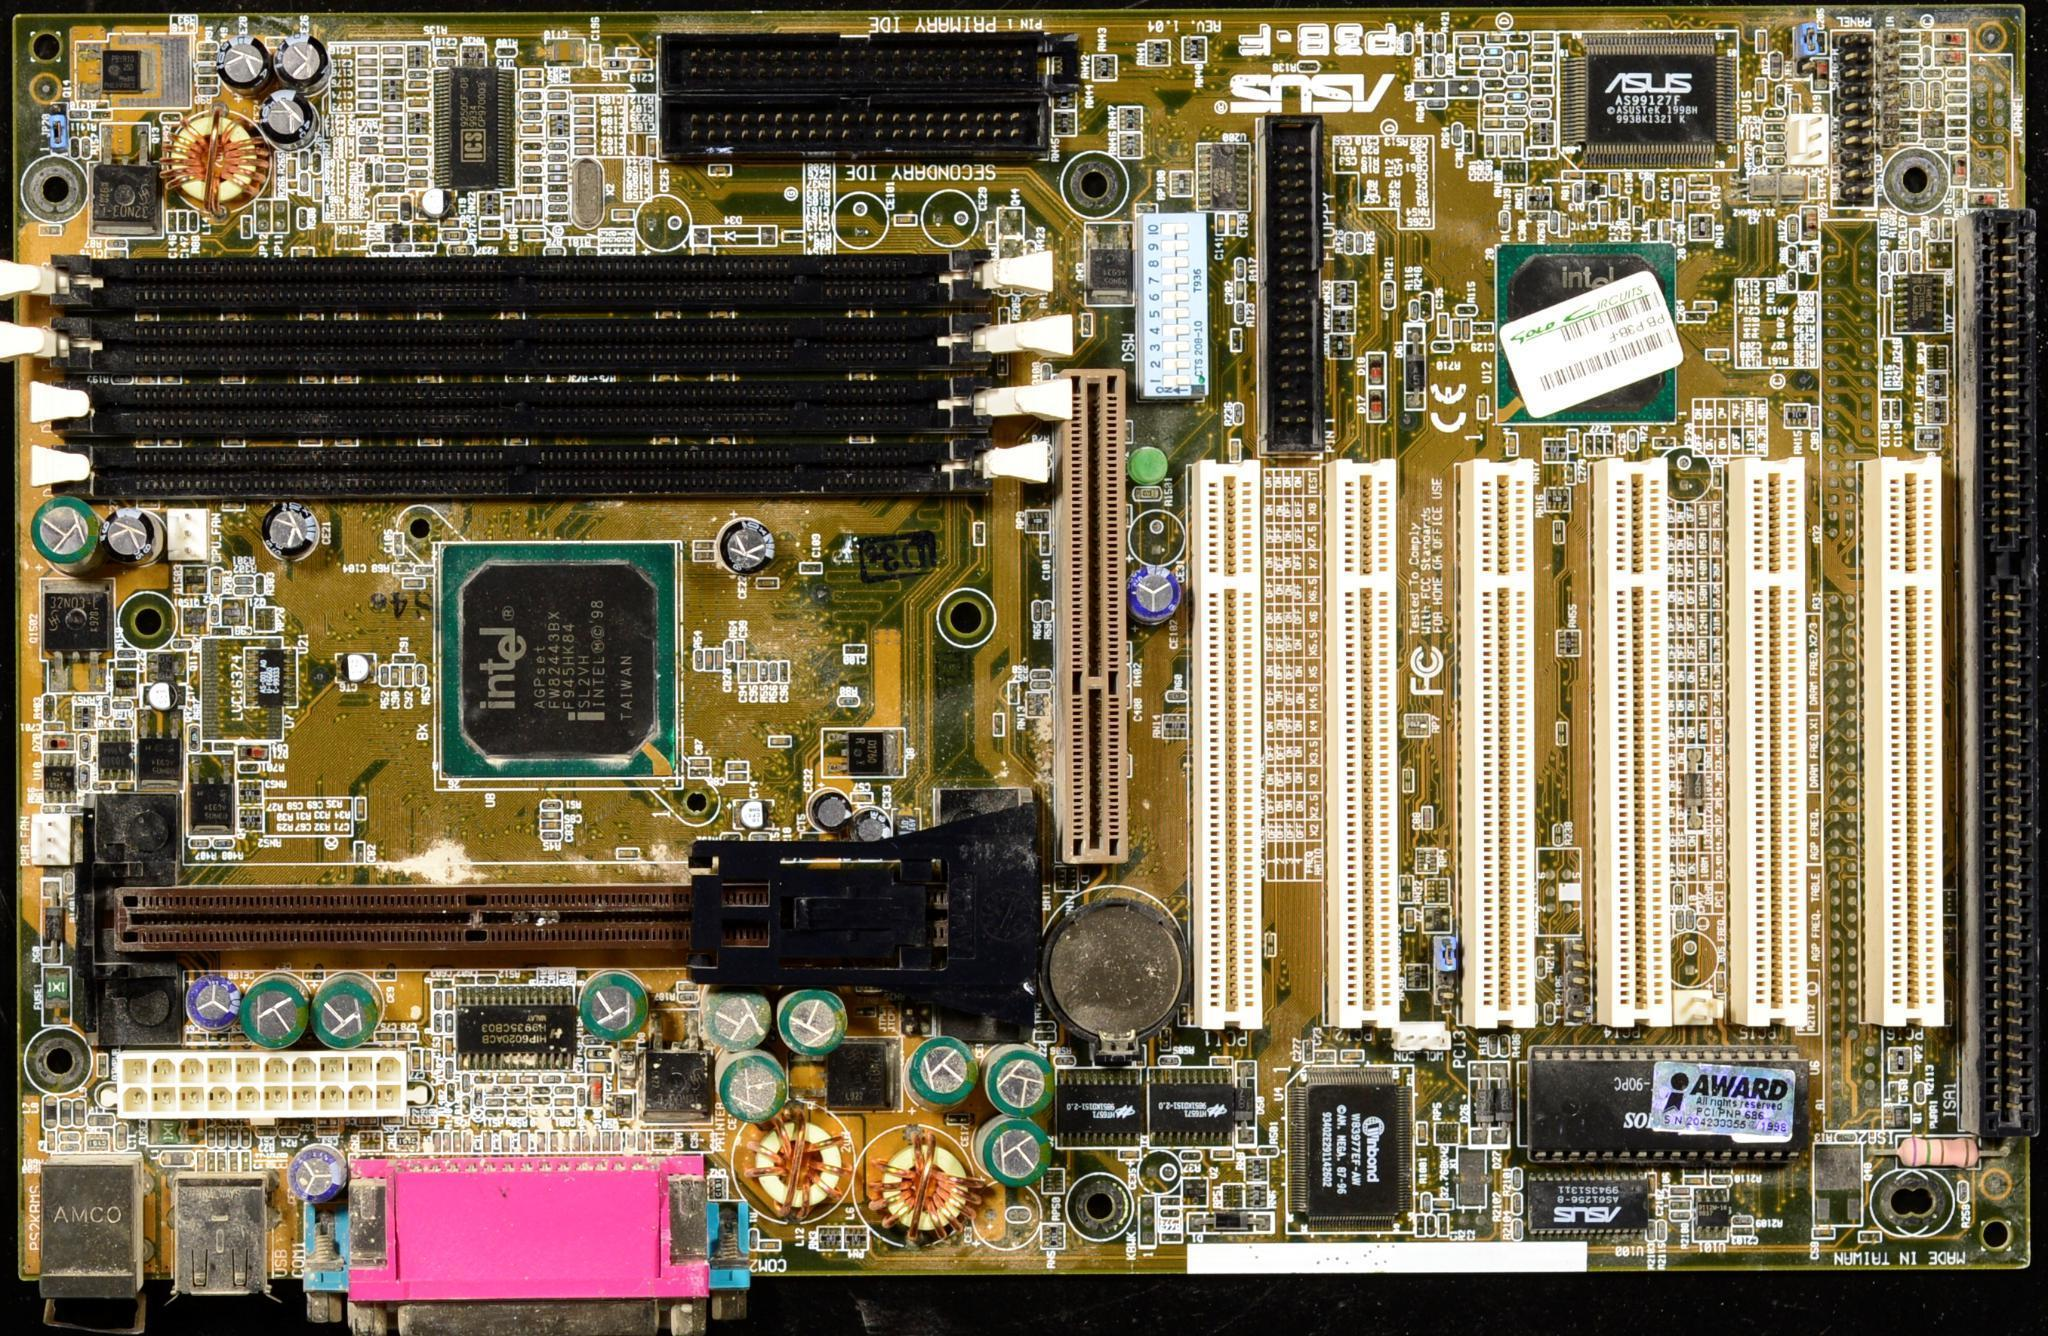Capacitor: (546, 39, 584, 65), (357, 76, 380, 89), (380, 44, 404, 56), (1511, 132, 1522, 156), (356, 44, 378, 56), (1755, 30, 1768, 53), (356, 57, 379, 68), (692, 539, 719, 549), (1344, 1049, 1366, 1061), (1813, 1226, 1836, 1238), (381, 57, 403, 68), (356, 66, 378, 78), (1406, 906, 1416, 931), (356, 89, 379, 100), (406, 575, 423, 589), (1424, 806, 1434, 828), (572, 105, 594, 115), (1668, 1185, 1690, 1196), (382, 146, 404, 156), (1690, 174, 1712, 185), (377, 209, 400, 219), (590, 44, 600, 66), (748, 659, 759, 681), (738, 660, 748, 682), (382, 67, 404, 78), (1755, 78, 1766, 99), (1670, 1208, 1691, 1218), (758, 1242, 779, 1253), (574, 126, 595, 136), (613, 209, 634, 219), (1227, 213, 1237, 235), (1217, 213, 1227, 234), (1533, 42, 1554, 52), (1039, 533, 1048, 557), (727, 760, 747, 770), (382, 103, 402, 113), (1485, 134, 1495, 154), (375, 163, 385, 182), (1674, 179, 1684, 198), (439, 218, 459, 228), (1808, 408, 1818, 427), (521, 80, 543, 89), (445, 988, 454, 1010), (356, 101, 378, 111), (1212, 1148, 1234, 1157), (382, 136, 404, 145), (1498, 133, 1508, 155), (649, 138, 658, 159), (727, 772, 748, 781), (548, 92, 569, 102), (408, 99, 429, 108), (411, 1050, 421, 1068), (421, 1050, 431, 1067), (384, 164, 405, 173), (1610, 175, 1621, 193), (377, 195, 399, 204), (524, 198, 533, 219), (1487, 35, 1508, 43), (392, 532, 402, 552), (695, 551, 716, 560), (628, 60, 650, 69), (1765, 145, 1788, 152), (691, 758, 711, 768), (852, 792, 871, 802), (543, 819, 563, 829), (383, 125, 403, 134), (574, 148, 594, 157), (409, 157, 429, 166), (287, 160, 296, 179), (1563, 170, 1583, 179), (385, 173, 404, 182), (524, 185, 543, 194), (513, 199, 523, 218), (1662, 222, 1671, 242), (481, 229, 500, 237), (391, 665, 400, 684), (1532, 66, 1551, 75), (522, 70, 542, 79), (547, 164, 569, 171), (404, 665, 412, 686), (522, 102, 541, 110), (1485, 120, 1503, 129), (710, 165, 729, 174), (1692, 191, 1710, 200), (1674, 201, 1682, 220), (547, 102, 567, 109), (1484, 108, 1504, 115), (1433, 1198, 1454, 1206), (1560, 214, 1568, 235), (524, 230, 545, 238), (736, 640, 744, 661), (715, 648, 723, 668), (574, 97, 594, 104), (383, 115, 403, 123), (574, 116, 594, 124), (523, 126, 542, 133), (358, 146, 378, 154), (536, 199, 543, 218), (542, 812, 560, 819), (408, 80, 426, 88), (1419, 1122, 1427, 1141), (410, 136, 429, 144), (574, 136, 593, 144), (408, 180, 426, 188), (315, 180, 323, 199), (504, 205, 512, 223), (1236, 281, 1244, 299), (1519, 51, 1526, 73), (706, 651, 713, 668), (359, 798, 366, 820), (1534, 33, 1555, 39), (755, 581, 776, 586), (1210, 1058, 1230, 1064), (1682, 1176, 1702, 1182), (548, 175, 567, 181), (1601, 202, 1608, 221), (694, 247, 713, 253), (106, 249, 125, 256), (771, 737, 791, 744), (522, 154, 540, 160), (1458, 37, 1477, 44), (376, 1032, 393, 1038), (398, 1033, 415, 1039)
Connector: (309, 1155, 750, 1334), (1972, 214, 2038, 1130), (58, 316, 992, 378), (56, 258, 989, 312), (57, 387, 980, 439), (57, 446, 991, 493), (113, 888, 770, 946), (1472, 468, 1540, 1011), (1742, 464, 1808, 1021), (1875, 457, 1937, 1027), (1199, 464, 1261, 1027), (1610, 457, 1671, 1021), (1062, 364, 1128, 858), (1335, 458, 1391, 1021), (652, 35, 1076, 95), (661, 99, 1051, 156), (118, 1050, 403, 1118), (38, 1154, 146, 1332), (176, 1175, 270, 1321)
IC: (438, 541, 682, 777), (1496, 240, 1684, 430), (1525, 1046, 1809, 1167), (1557, 33, 1737, 169), (1294, 1067, 1413, 1229), (455, 985, 577, 1070), (434, 67, 515, 187), (1528, 1168, 1649, 1237), (1054, 1070, 1148, 1146), (1147, 1068, 1233, 1147), (242, 645, 298, 709), (1198, 143, 1250, 211), (1894, 274, 1948, 335), (1693, 1187, 1729, 1237), (98, 728, 132, 779), (381, 223, 411, 243)
Resistor: (1871, 1138, 2009, 1166), (44, 753, 74, 802), (212, 569, 225, 594), (451, 245, 477, 257), (1910, 250, 1922, 272), (1056, 1053, 1074, 1066), (442, 231, 469, 241), (1299, 61, 1318, 73), (769, 662, 780, 680), (189, 725, 199, 751), (1531, 109, 1552, 120), (359, 136, 380, 146), (299, 172, 309, 192), (1897, 251, 1907, 272), (1735, 1214, 1754, 1224), (81, 137, 91, 157), (1403, 34, 1413, 53), (497, 47, 517, 57), (416, 666, 427, 685), (1512, 1168, 1521, 1189), (1881, 252, 1890, 274), (1880, 273, 1888, 295), (1236, 301, 1245, 324), (82, 735, 91, 757), (542, 800, 560, 810), (39, 804, 60, 814), (1916, 1082, 1925, 1103), (1960, 1181, 1969, 1201), (1483, 48, 1503, 56), (234, 575, 255, 583), (1033, 601, 1043, 619), (120, 647, 137, 657), (408, 70, 428, 79), (80, 766, 88, 790), (1657, 1220, 1666, 1239), (1452, 124, 1462, 144), (298, 152, 308, 171), (548, 193, 567, 201), (1504, 52, 1514, 72), (436, 58, 456, 67), (172, 639, 191, 648), (1167, 689, 1186, 699), (1507, 78, 1525, 87), (522, 91, 540, 100), (1486, 94, 1504, 103), (1530, 101, 1548, 110), (1643, 182, 1653, 200), (1550, 212, 1558, 230), (393, 244, 411, 252), (1237, 259, 1246, 278), (1437, 34, 1446, 52), (1629, 431, 1638, 449), (234, 586, 252, 595), (1041, 602, 1049, 619), (1437, 56, 1446, 75), (1030, 669, 1048, 677), (1481, 69, 1498, 77), (1554, 823, 1562, 843), (68, 110, 89, 118), (1710, 1177, 1732, 1184), (410, 147, 426, 157), (1912, 228, 1920, 249), (549, 142, 566, 151), (542, 831, 562, 839), (1508, 92, 1527, 100), (522, 112, 542, 120), (407, 170, 427, 178), (1483, 58, 1502, 66), (841, 697, 860, 705), (101, 695, 109, 715), (198, 86, 217, 94), (1426, 100, 1444, 108), (1513, 1220, 1521, 1238), (1575, 183, 1582, 202), (1502, 212, 1509, 230), (1461, 46, 1479, 54), (762, 664, 770, 679), (199, 65, 216, 73), (547, 204, 567, 211), (210, 603, 217, 624), (67, 806, 84, 814), (1514, 1194, 1521, 1210), (549, 154, 566, 161), (1506, 121, 1525, 127), (112, 719, 132, 725), (546, 248, 562, 255), (1507, 107, 1526, 114), (1648, 1220, 1654, 1238), (106, 241, 124, 247), (726, 641, 732, 658), (695, 651, 702, 668), (1032, 681, 1050, 687), (112, 700, 130, 706), (1158, 1058, 1180, 1063), (382, 667, 388, 684), (526, 165, 541, 172), (1425, 1194, 1430, 1212)
Transistor: (43, 578, 110, 693), (92, 124, 161, 231), (76, 43, 155, 97), (1086, 224, 1135, 306), (137, 708, 183, 791), (824, 727, 904, 775), (189, 754, 235, 832), (147, 650, 186, 682), (1884, 1104, 1910, 1129), (184, 566, 208, 592), (116, 668, 139, 696), (224, 597, 245, 623)
